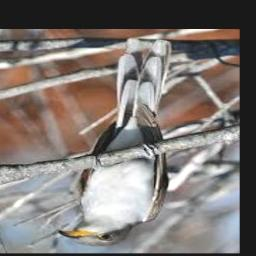Cuckoo: (58, 40, 170, 246)
